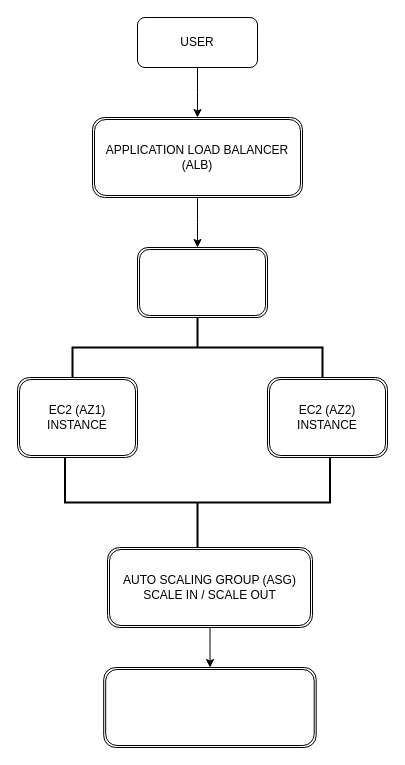
Image size: 405x765. Some labels were removed from this diagram. Here are the shapes that lost their labels. From the top down, the centre of each, then its label:
At (202,282): "TARGET GROUP".
At (209,707): "CLOUDWATCH MONITORING".
